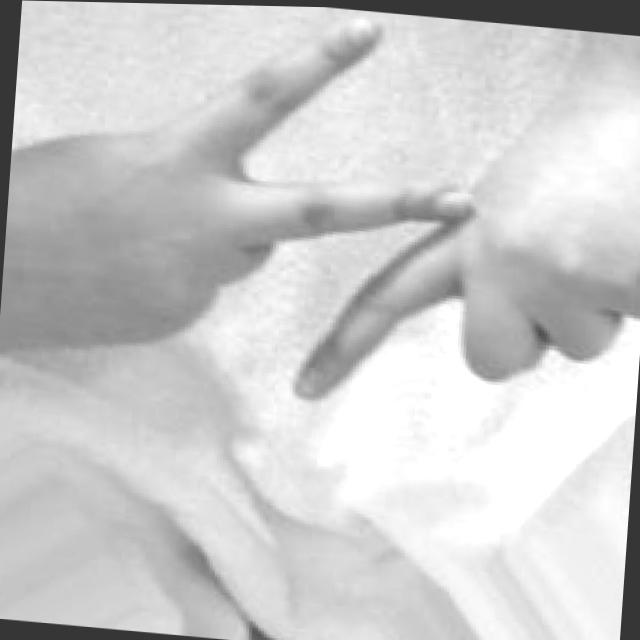Z: (0, 0, 640, 432)
